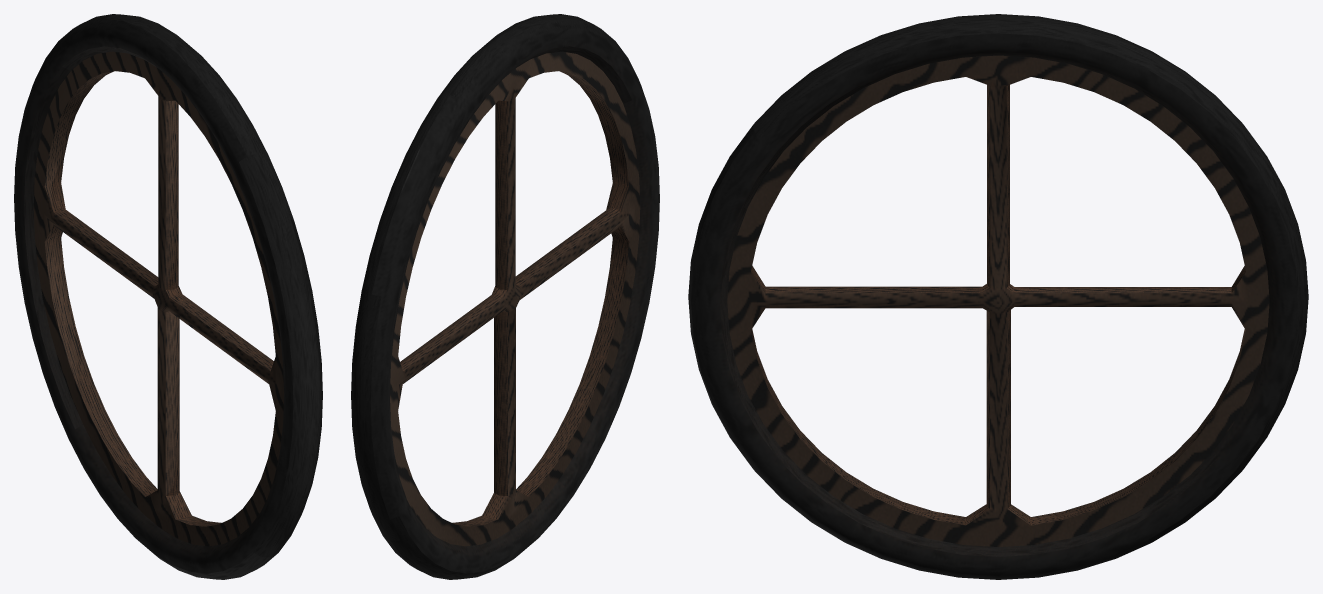
File: wheel.dae
The picture shows the model from 3 angles, left to right: view 1: azimuth 30°, elevation 25°; view 2: azimuth 150°, elevation 25°; view 3: azimuth 270°, elevation 25°; orthographic projection. The views are drawn at different scales.
Visible parts, largest first — view 1: Torus; view 2: Torus; view 3: Torus.
Part boxes in pixels (x1,y1,x2,y2): Torus: [14, 14, 322, 579]; Torus: [351, 14, 659, 579]; Torus: [688, 14, 1308, 579].
Bounding box in the file's own units: 0.096 × 1.43 × 1.43.
Materials: 1 (1 with a texture image).
